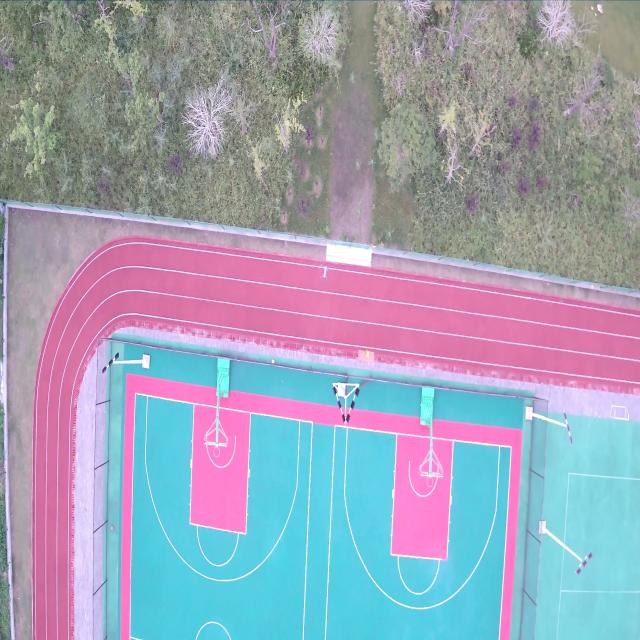UAV: (319, 264, 331, 282)
